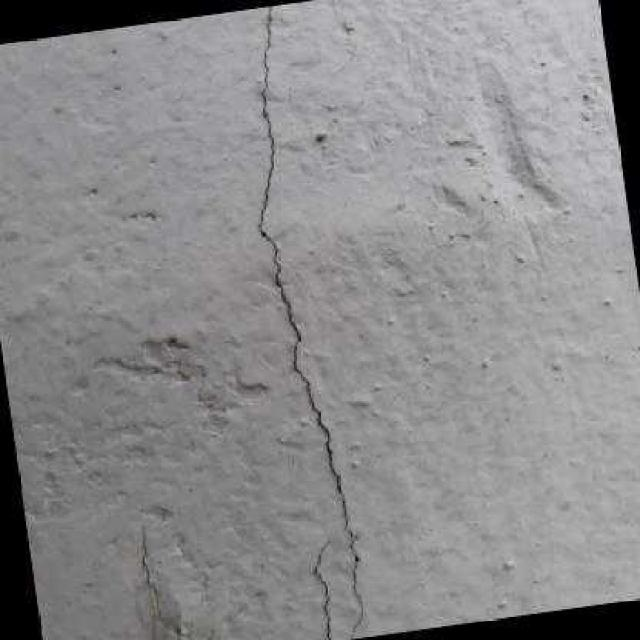D00: (257, 4, 364, 639), (311, 538, 333, 640), (139, 525, 162, 619)
